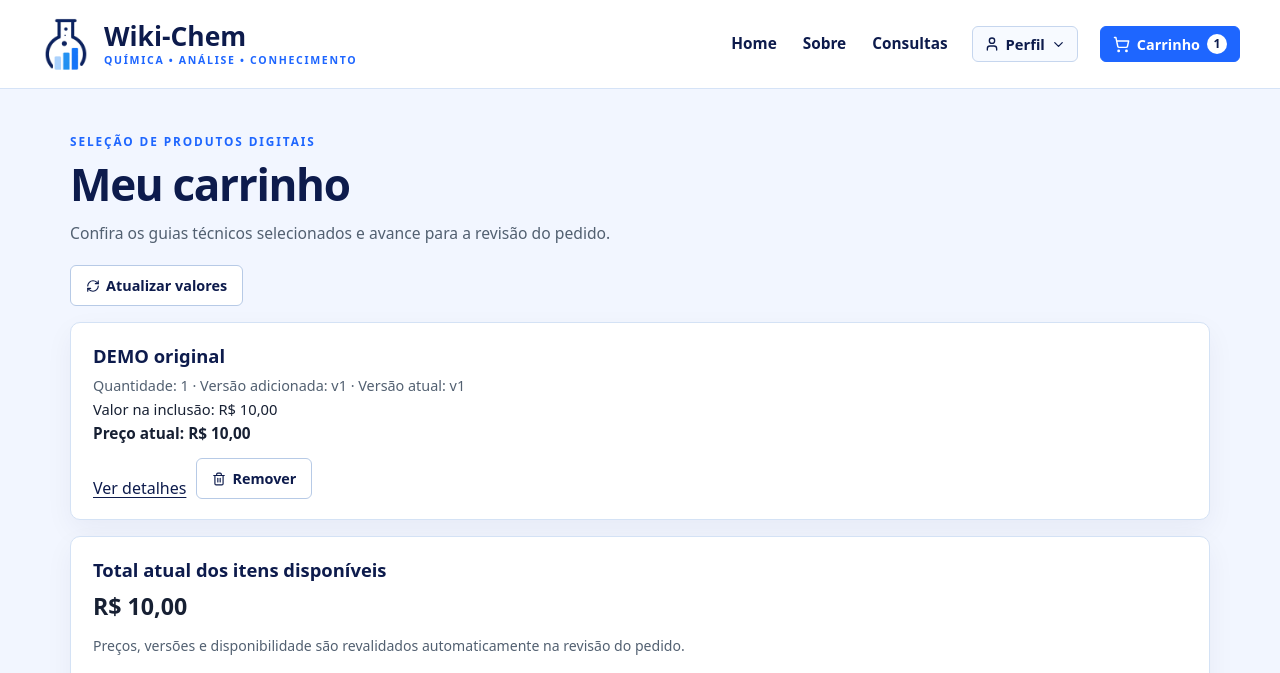
Test case: oferta, contador dinâmico no cabeçalho e carrinho na interface › remove com revisão no servidor, atualiza contador para zero e preserva CSRF
Expected: the link with aria-label "Carrinho (1 item)" is shown, 1100,26 -> 1240,62
Click the button with aria-label "Remover DEMO original".
click(254, 478)  # box 196,458 -> 312,499
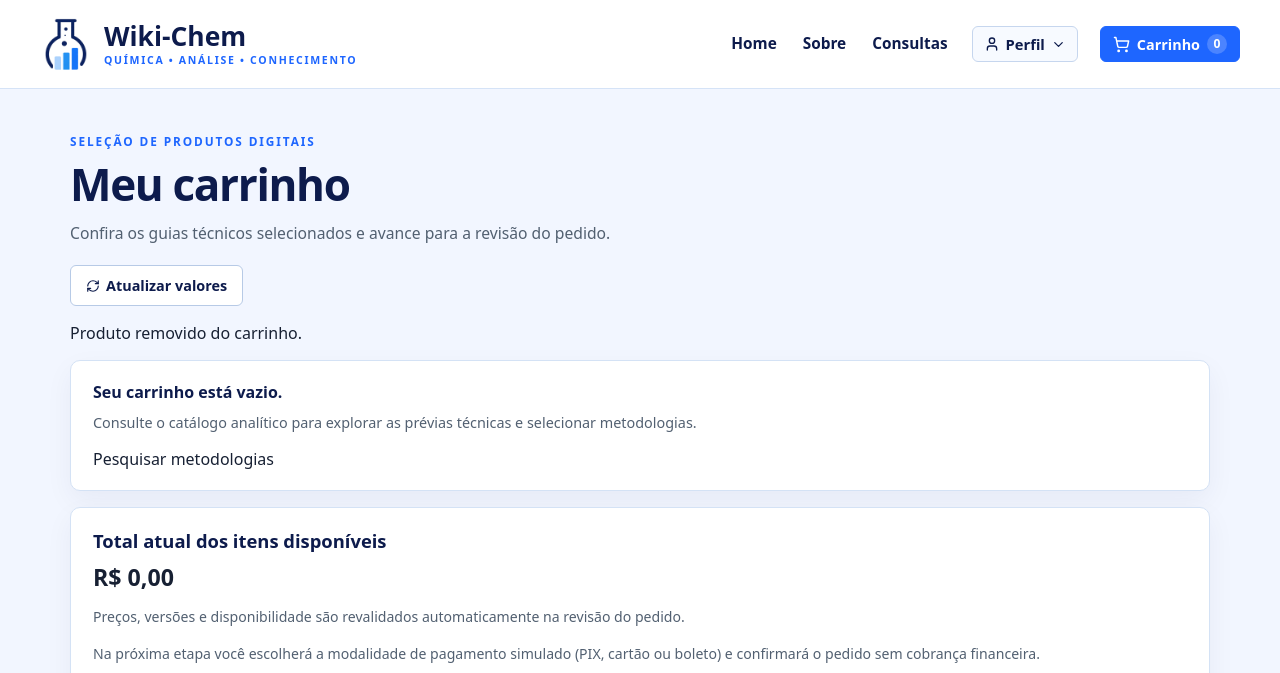
Expected: the text "Seu carrinho está vazio." is shown, 93,381 -> 282,403
Expected: the link with aria-label "Carrinho (0 itens)" is shown, 1100,26 -> 1240,62
